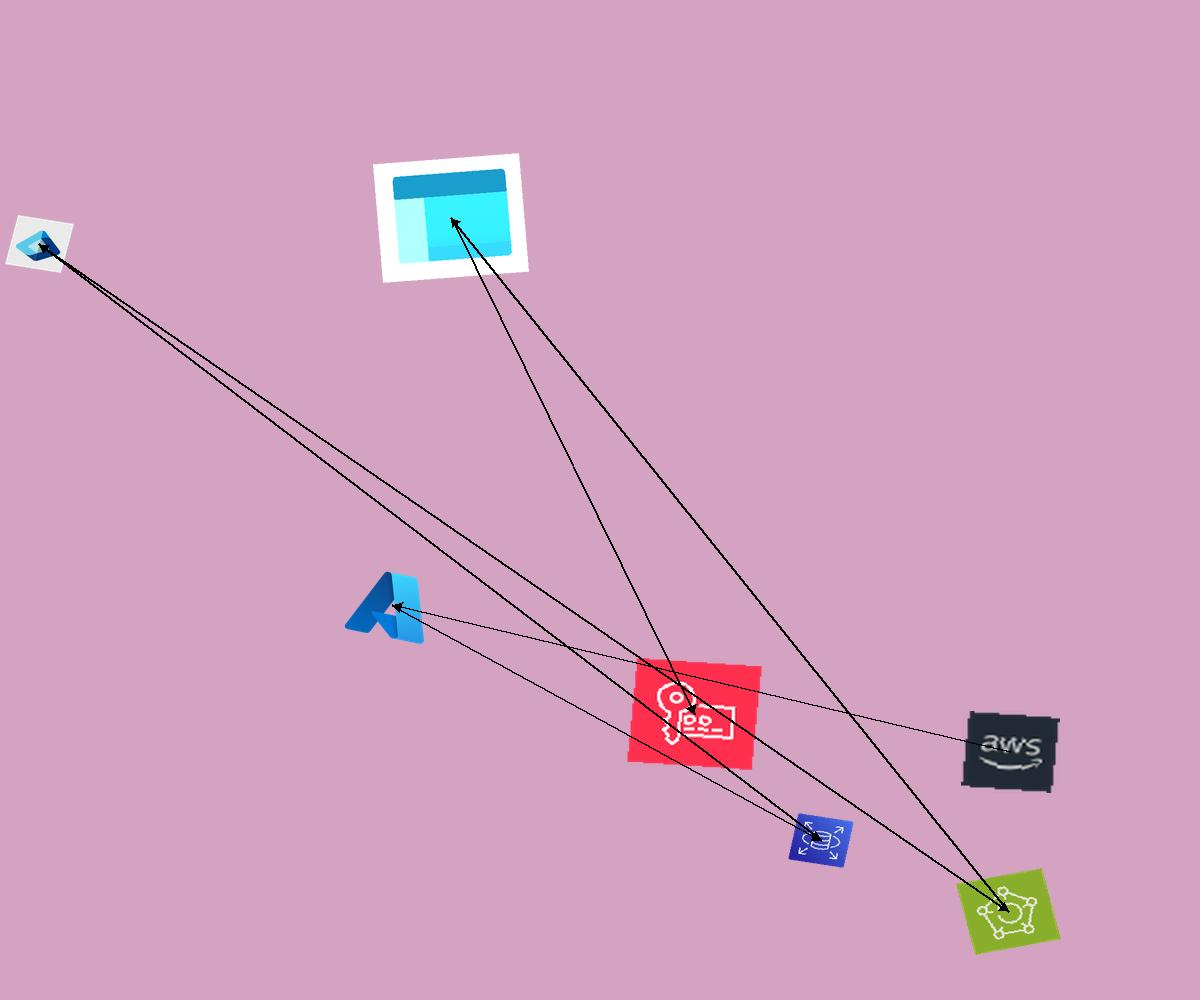AWS-Backup: (956, 868, 1061, 955)
AWS-Cloud-logo: (961, 711, 1060, 793)
AWS-Key-Management-Service: (626, 657, 763, 771)
AWS-RDS: (788, 813, 854, 868)
Azure_management-portal: (373, 153, 529, 283)
Azure_microsoft_entra: (5, 215, 74, 273)
Azure_services: (339, 561, 446, 650)
